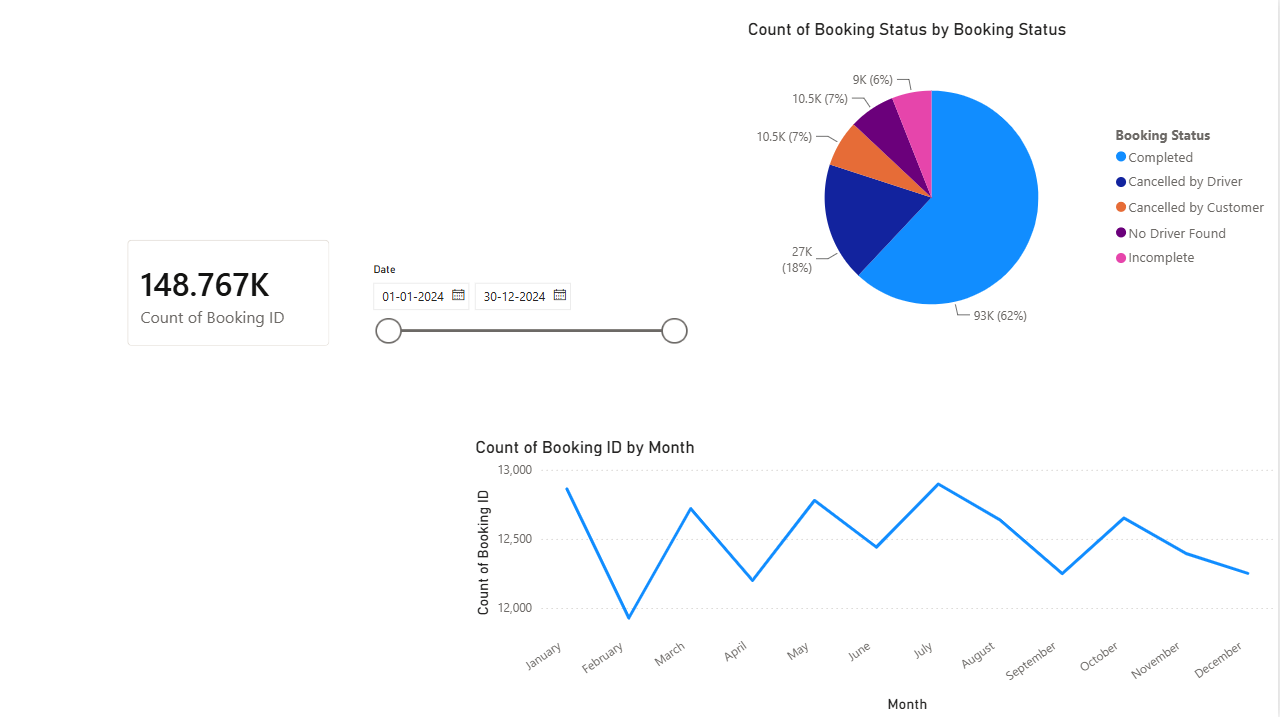

This screenshot's page, from the dashboard's own definition file:
{"tool":"powerbi","page":{"name":"Overall","canvas":[1280,720],"ordinal":1},"visuals":[{"type":"lineChart","fields":{"Y":["CountNonNull(rideBookings.Booking ID)"],"Category":["rideBookings.Date.Variation.Date Hierarchy.Month"]},"box":[472.4,438.8,807.4,280.8],"z":0},{"type":"pieChart","fields":{"Category":["rideBookings.Booking Status"],"Y":["CountNonNull(rideBookings.Booking Status)"]},"box":[745,21.7,535.4,337.7],"z":1000},{"type":"cardVisual","fields":{"Data":["Count(rideBookings.Booking ID)"]},"box":[112.8,224.6,236.2,141],"z":2000},{"type":"slicer","fields":{"Values":["rideBookings.Date"]},"box":[362.6,260.5,335.4,122.5],"z":3000}]}

Visuals, with their boxes in screenshot pixels (x1, y1, x2, y2), scaled from the page's 1280x720 canvas onto the 1280x717 screenshot:
lineChart - CountNonNull(rideBookings.Booking ID) x rideBookings.Date.Variation.Date Hierarchy.Month: locate(472, 437, 1279, 716)
pieChart - rideBookings.Booking Status x CountNonNull(rideBookings.Booking Status): locate(745, 22, 1279, 358)
cardVisual - Count(rideBookings.Booking ID): locate(113, 224, 349, 364)
slicer - rideBookings.Date: locate(363, 259, 698, 381)
